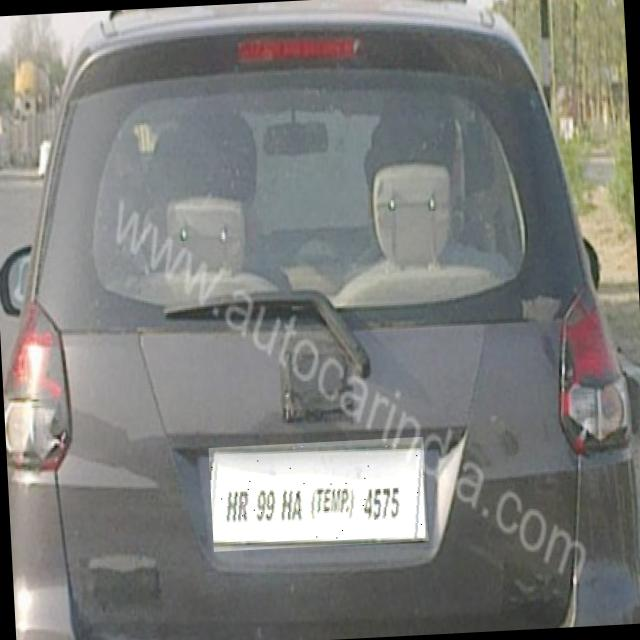Plate: (210, 438, 430, 553)
